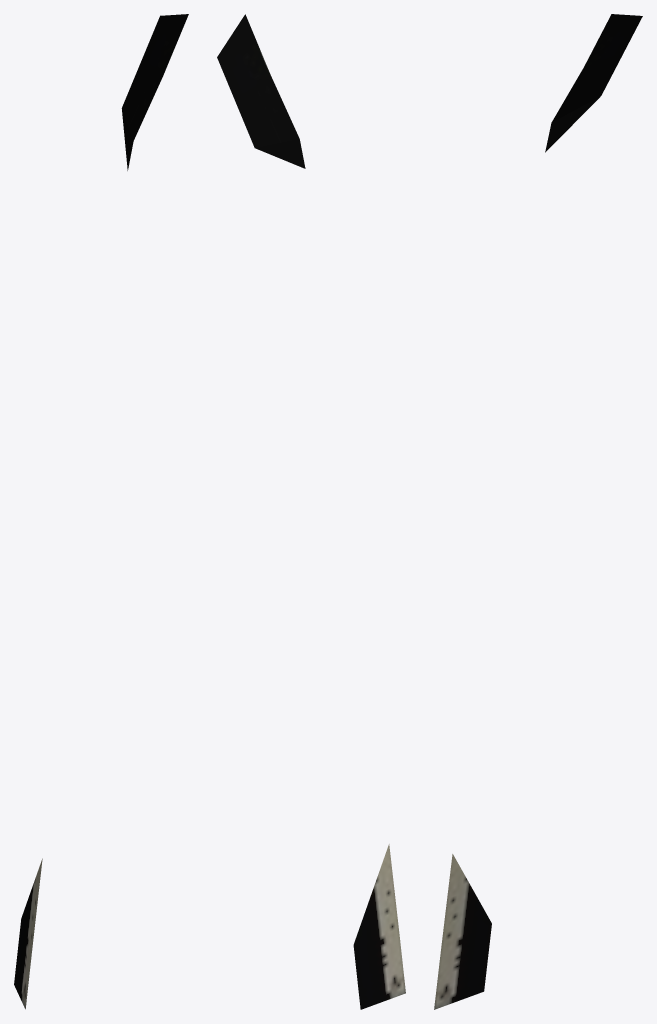
3 views of the same model, side by side, from view 1: azimuth 30°, elevation 25°; view 2: azimuth 150°, elevation 25°; view 3: azimuth 330°, elevation 25° (orthographic). The views are drawn at different scales.
Size of the model in its own units: 0.2624 by 1.47 by 0.0803.
Materials: 1 (1 with a texture image).
